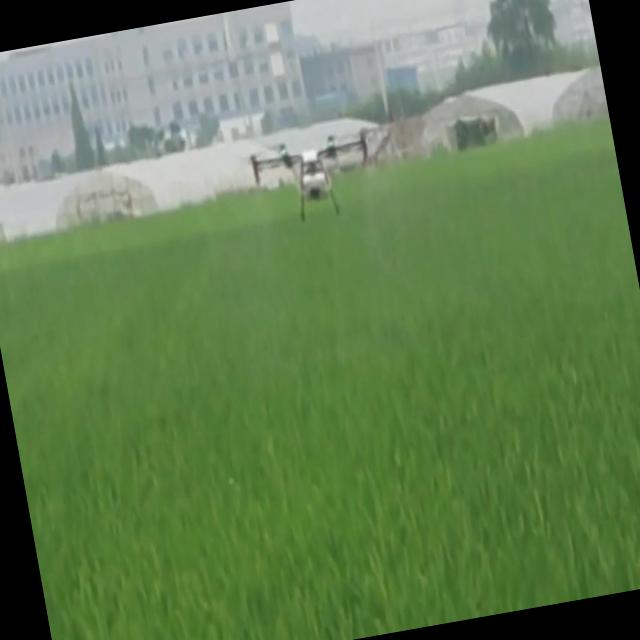drone: (242, 122, 386, 233)
